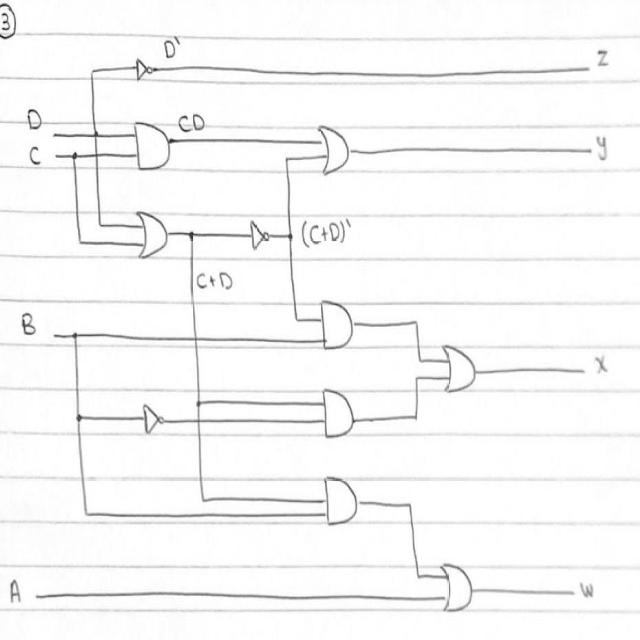AND: (130, 114, 175, 180), (320, 379, 360, 452), (320, 468, 363, 534), (316, 291, 357, 357)
NOT: (138, 397, 168, 448), (245, 210, 272, 257), (134, 52, 156, 94)
OR: (439, 332, 486, 410), (309, 120, 360, 185), (130, 196, 172, 272), (434, 553, 478, 622)
